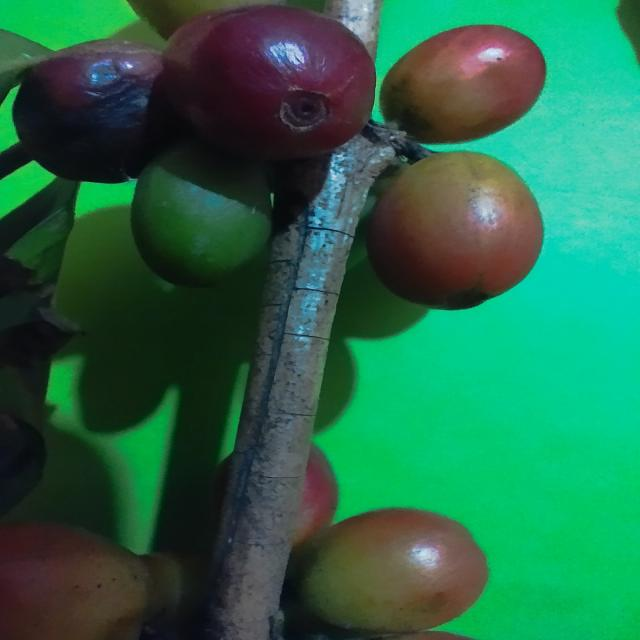Danado: (0, 40, 174, 186)
Sano: (161, 5, 376, 167), (364, 152, 545, 312), (283, 508, 490, 640), (379, 26, 548, 154)
